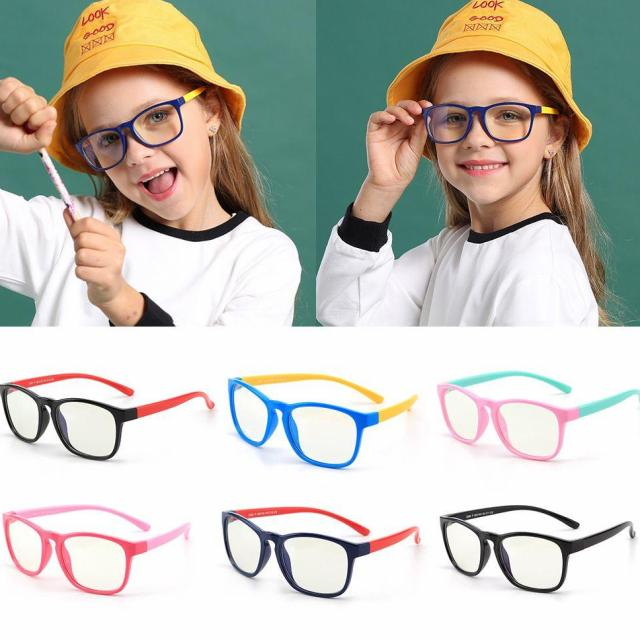Glasses: (73, 83, 204, 175), (421, 99, 558, 145)
